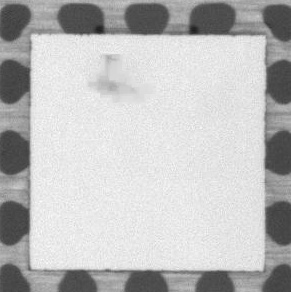DIE_INK: (92, 54, 123, 95)
